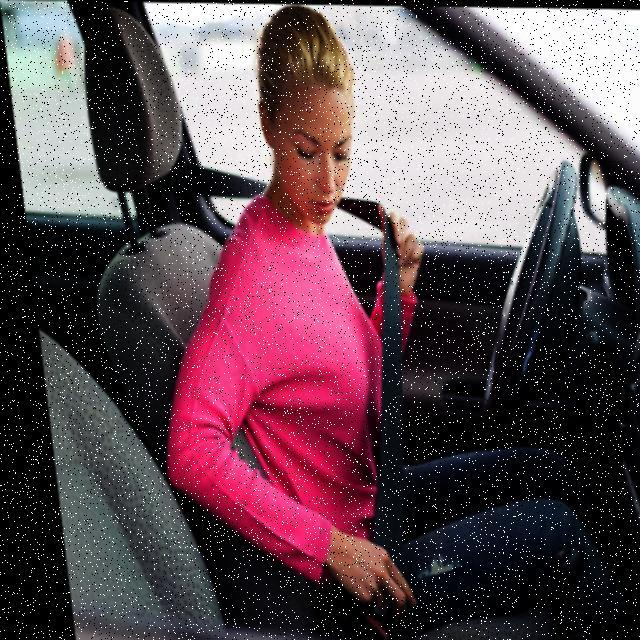seatbelt: (278, 191, 442, 634)
